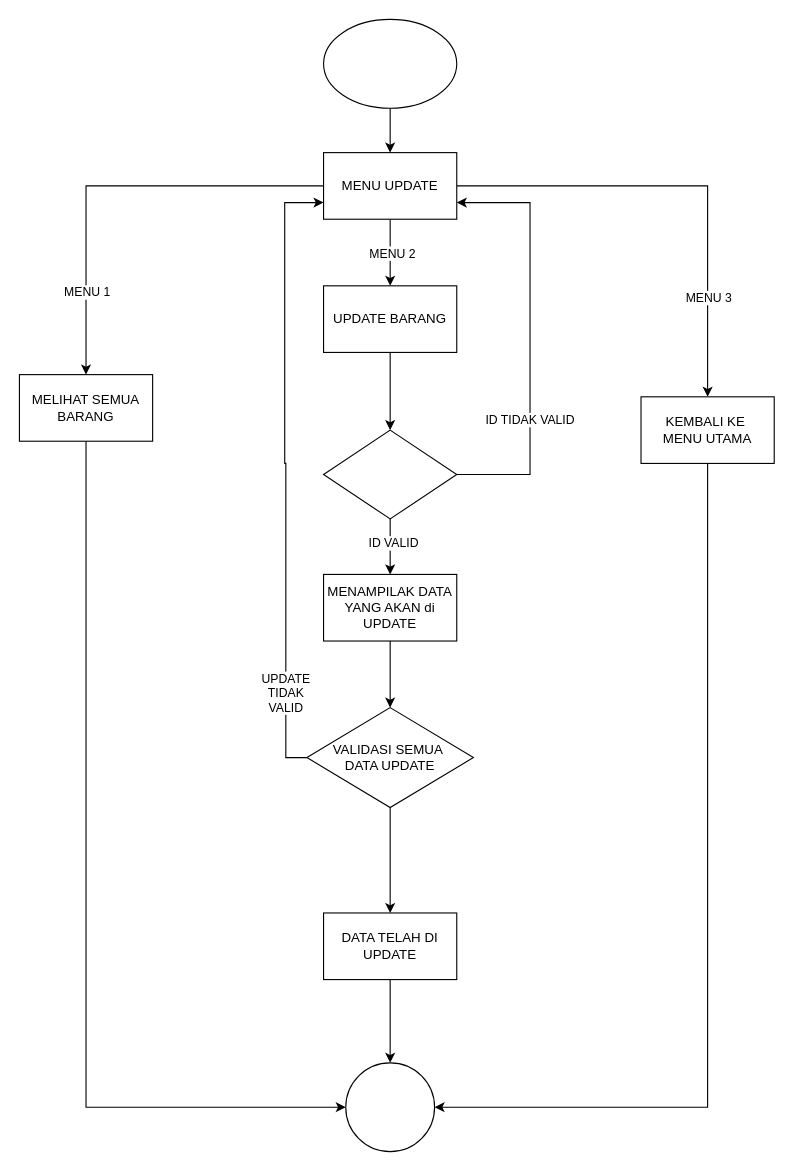
This 794x1171 diagram has some shape labels left out. The shapes that lost their labels are listed below. From the top down, each one's centre as x and y in pixels, then its label:
At [389,63]: "START".
At [389,474]: "USER INPUT ID".
At [390,1107]: "END".
